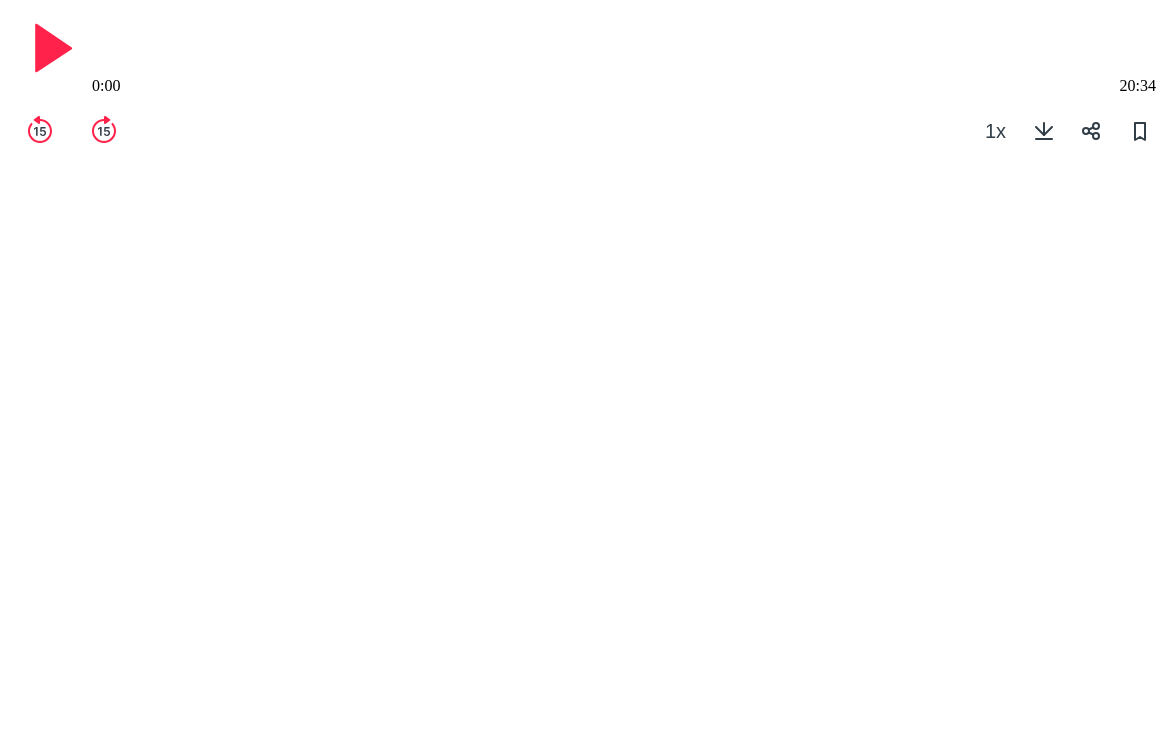
Test: player › toggles play/pause buttons
Click the button named "play" at (48, 48), box [12,12,84,84]
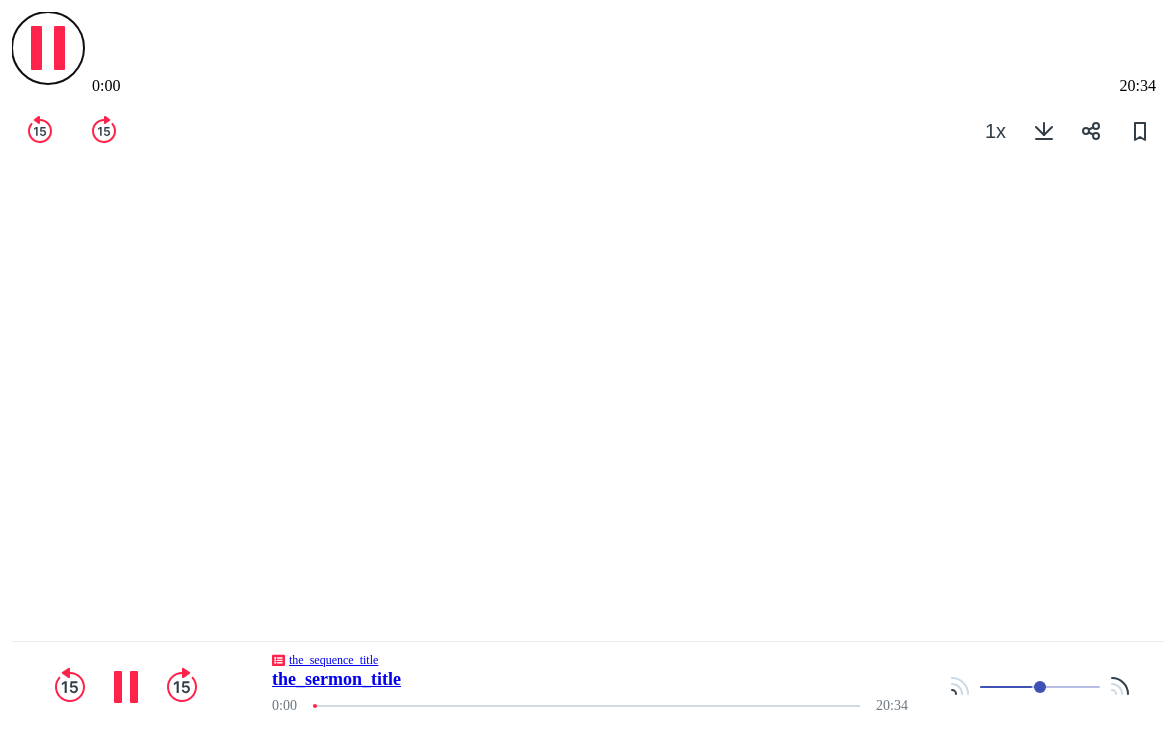
Check: the 1st button named "pause" is shown, box [12,12,84,84]
